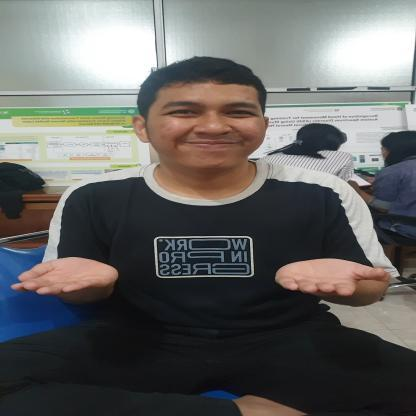Apa: (13, 253, 400, 307)
